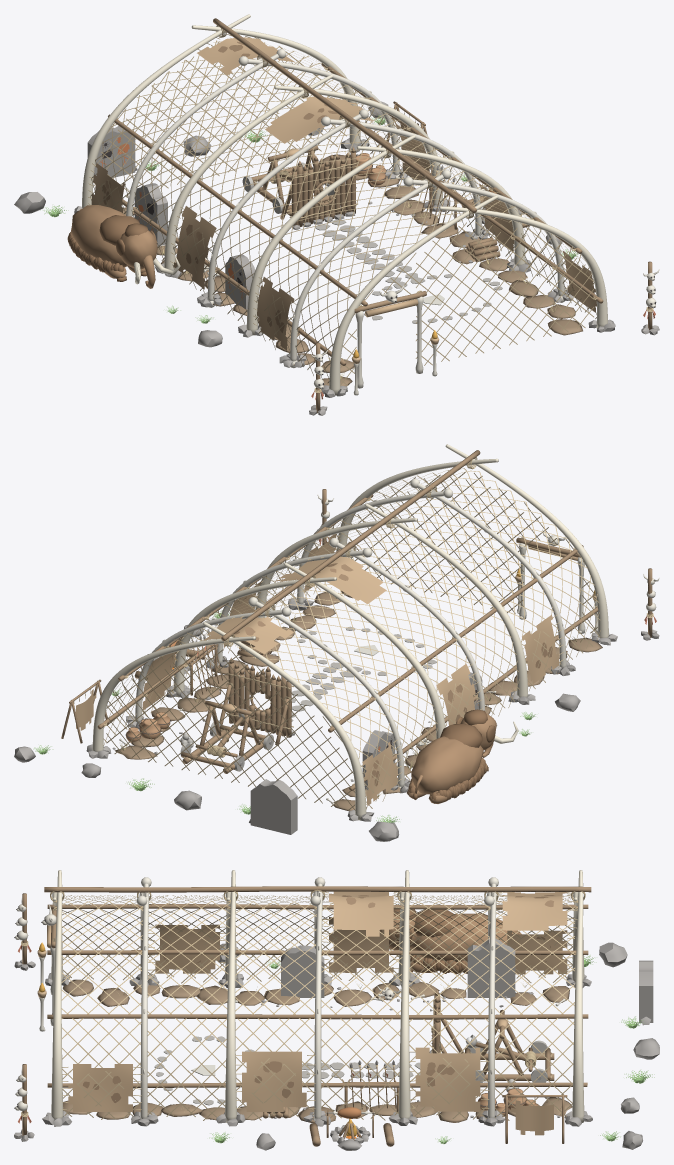
The model's file is CavemanCampCage.fbx.
3 renders of one model, top to bottom at view 1: azimuth 30°, elevation 25°; view 2: azimuth 150°, elevation 25°; view 3: azimuth 270°, elevation 25°, orthographic. The views are drawn at different scales.
Visible parts, largest first — view 1: CaveNet, CaveTusks, CaveHides, CaveBones, CaveLogs, CaveRocks, CaveNetEnds, CaveDirt, MammothFur, CaveScreen, CaveStones, MammothFurDark (+3 smaller); view 2: CaveNet, CaveTusks, CaveHides, CaveLogs, CaveBones, CaveNetEnds, CaveRocks, CaveDirt, MammothFur, CaveScreen, CaveStones, MammothFurDark (+4 smaller); view 3: CaveNet, CaveHides, CaveLogs, CaveRocks, CaveTusks, CaveDirt, CaveBones, MammothFur, CaveStones, MammothFurDark, CaveHideSpots, CaveRope (+4 smaller).
Boxes of the visible parts, x1,y1,x2,y2 form: CaveNet: (90,37,596,383); CaveTusks: (82,14,607,395); CaveHides: (91,37,596,363); CaveBones: (126,49,659,395); CaveLogs: (93,18,652,413); CaveRocks: (14,101,659,415); CaveNetEnds: (93,41,593,385); CaveDirt: (123,154,582,386); MammothFur: (67,205,157,288); CaveScreen: (280,147,356,227); CaveStones: (242,162,502,323); MammothFurDark: (68,215,148,281); CaveNet: (103,468,600,809); CaveTusks: (92,444,608,820); CaveHides: (76,534,596,805); CaveLogs: (61,450,652,790); CaveBones: (119,478,659,804); CaveNetEnds: (106,472,597,810); CaveRocks: (14,598,659,841); CaveDirt: (114,590,602,811); MammothFur: (407,713,496,803); CaveScreen: (219,657,291,745); CaveStones: (180,626,436,771); MammothFurDark: (408,709,488,803); CaveNet: (61,895,574,1120); CaveHides: (37,891,567,1135); CaveLogs: (22,886,591,1146); CaveRocks: (14,938,659,1150); CaveTusks: (51,870,584,1122); CaveDirt: (62,979,572,1122); CaveBones: (15,877,565,1126); MammothFur: (389,913,521,972); CaveStones: (154,1034,547,1105); MammothFurDark: (393,909,467,974); CaveHideSpots: (83,895,554,1102); CaveRope: (21,890,585,1116).
Size of the model in its own units: 1089 by 440 by 1488.
